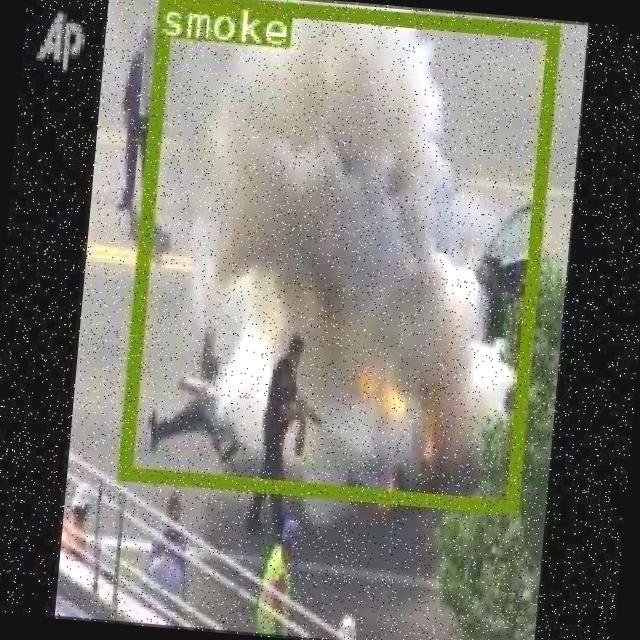smoke: (117, 0, 558, 509)
